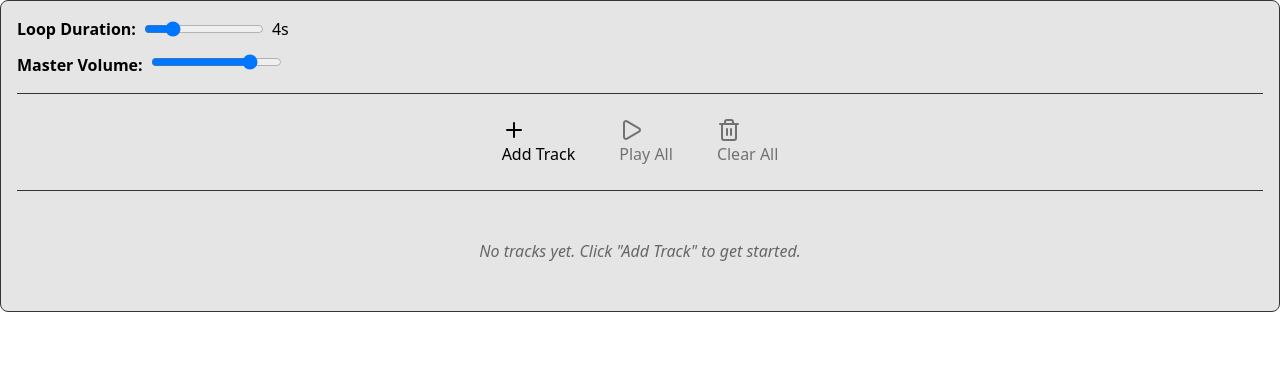
it: AudioLooper › removes a track
Note: Add a track
Click the button "Add Track": (538, 142) [486,110,591,174]
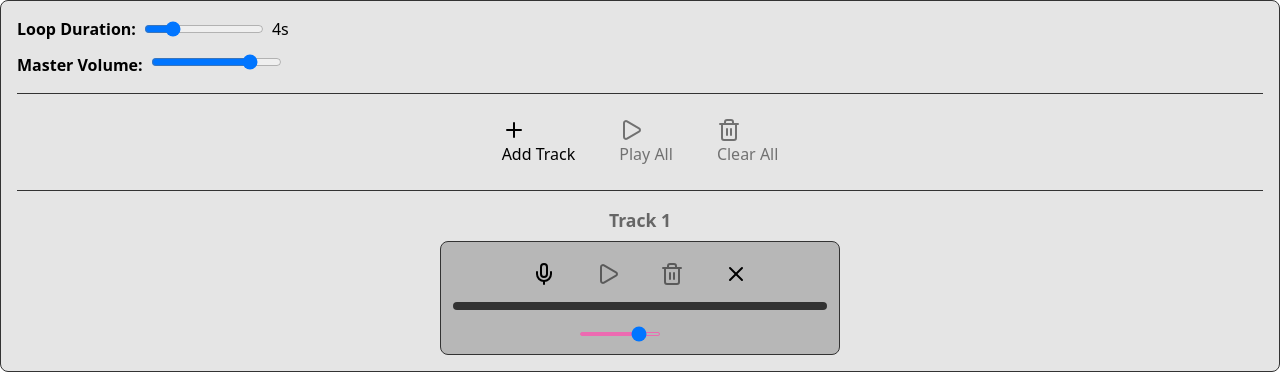
Now the text "Track 1" is shown, box [609,207,671,233]
Note: Remove the track
Click the button titled "Remove Track": (736, 274) [708,254,764,294]
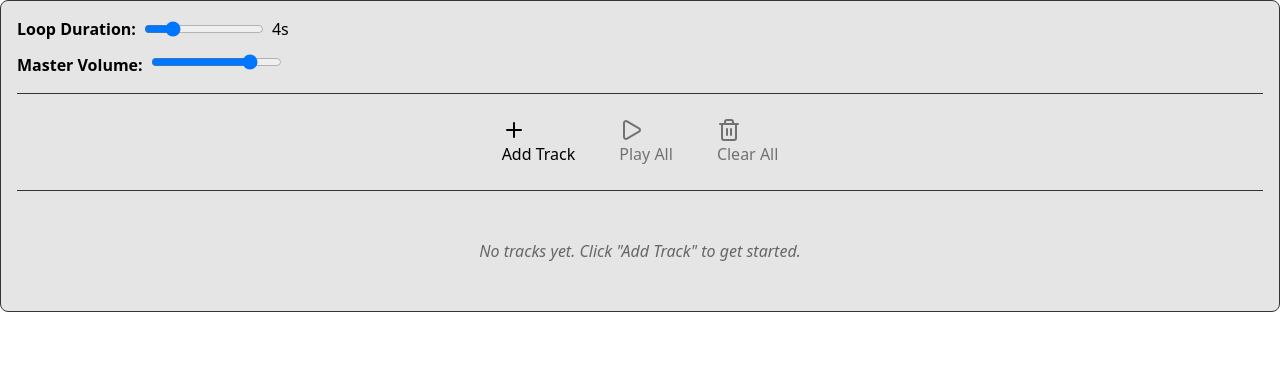
Now the text "Track 1" is gone
Now the text "No tracks yet. Click \"Add Track\" to get started." is shown, box [479,240,801,262]
